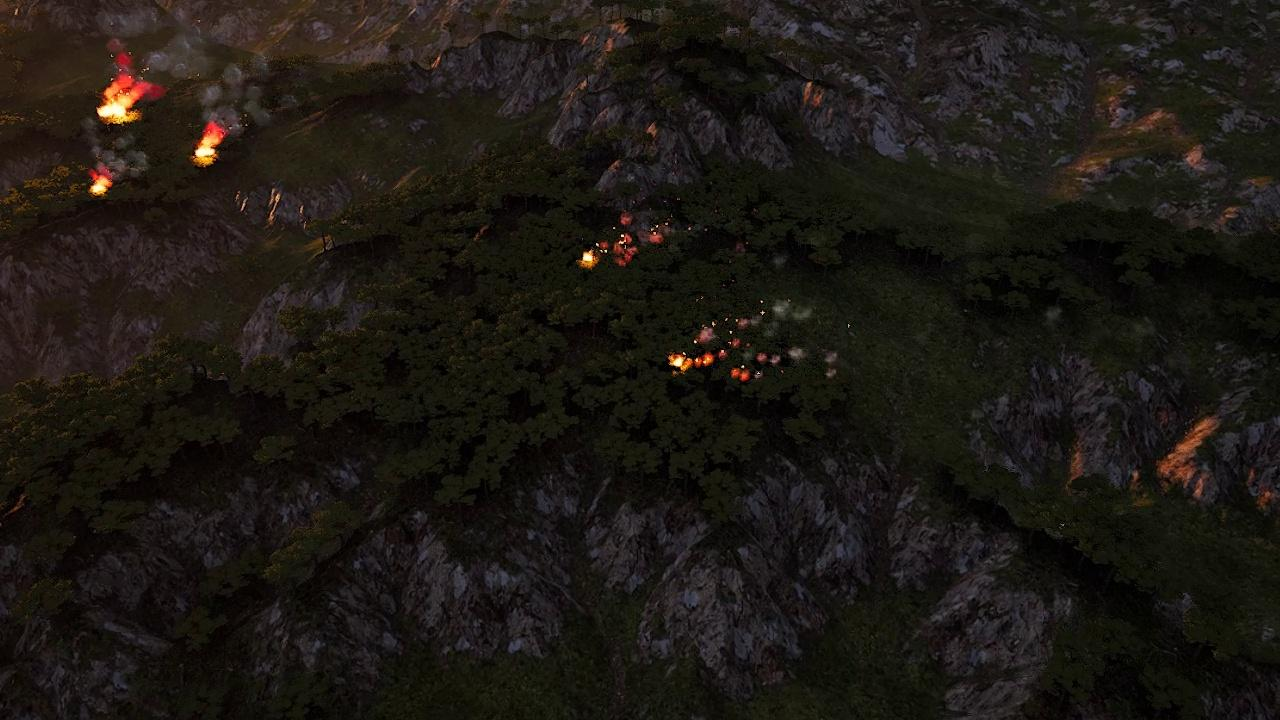fire: (96, 80, 144, 120), (195, 127, 226, 163), (671, 351, 716, 372), (88, 175, 111, 196), (580, 249, 596, 267)
smoke: (198, 53, 269, 132), (727, 340, 841, 382), (106, 30, 205, 78), (605, 214, 666, 266), (86, 133, 149, 180), (771, 299, 810, 323)
